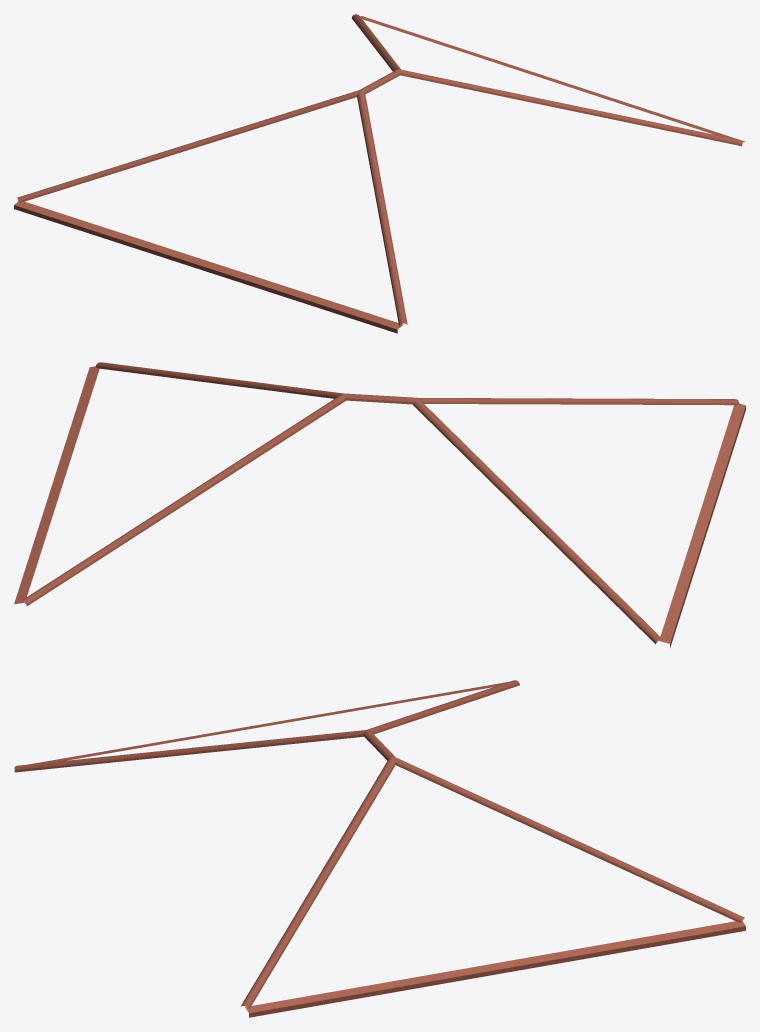
The picture shows the model from 3 angles, top to bottom: view 1: azimuth 30°, elevation 25°; view 2: azimuth 150°, elevation 25°; view 3: azimuth 270°, elevation 25°; orthographic projection. The views are drawn at different scales.
Parts seen in each view (by area): view 1: detail; view 2: detail; view 3: detail.
Part boxes in pixels (x1,y1,x2,y2): detail: (14,14,745,333); detail: (14,362,745,647); detail: (14,680,745,1017).
Bounding box in the file's own units: 23.89 × 3.76 × 22.27.
